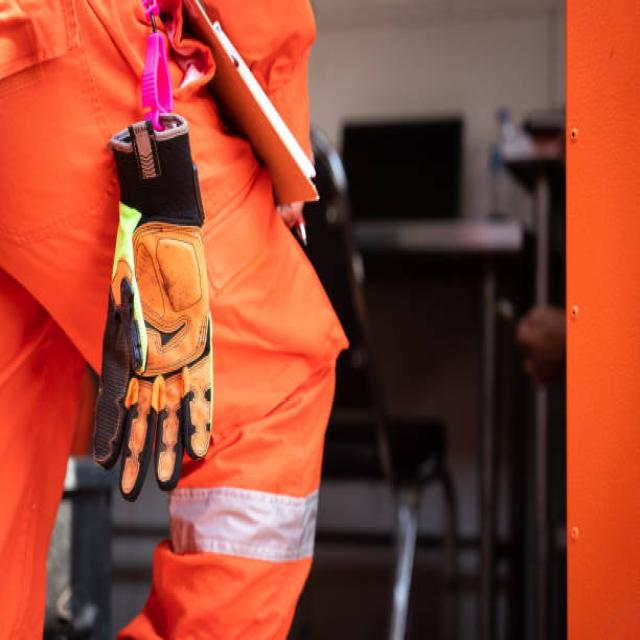gloves: (93, 116, 214, 505)
